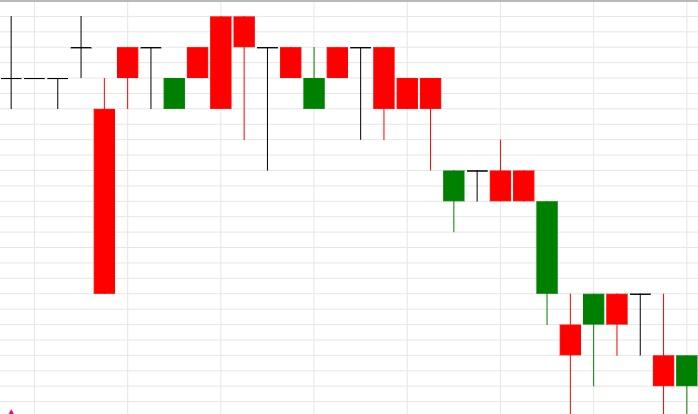hanging_man_fall: (162, 16, 256, 140)
